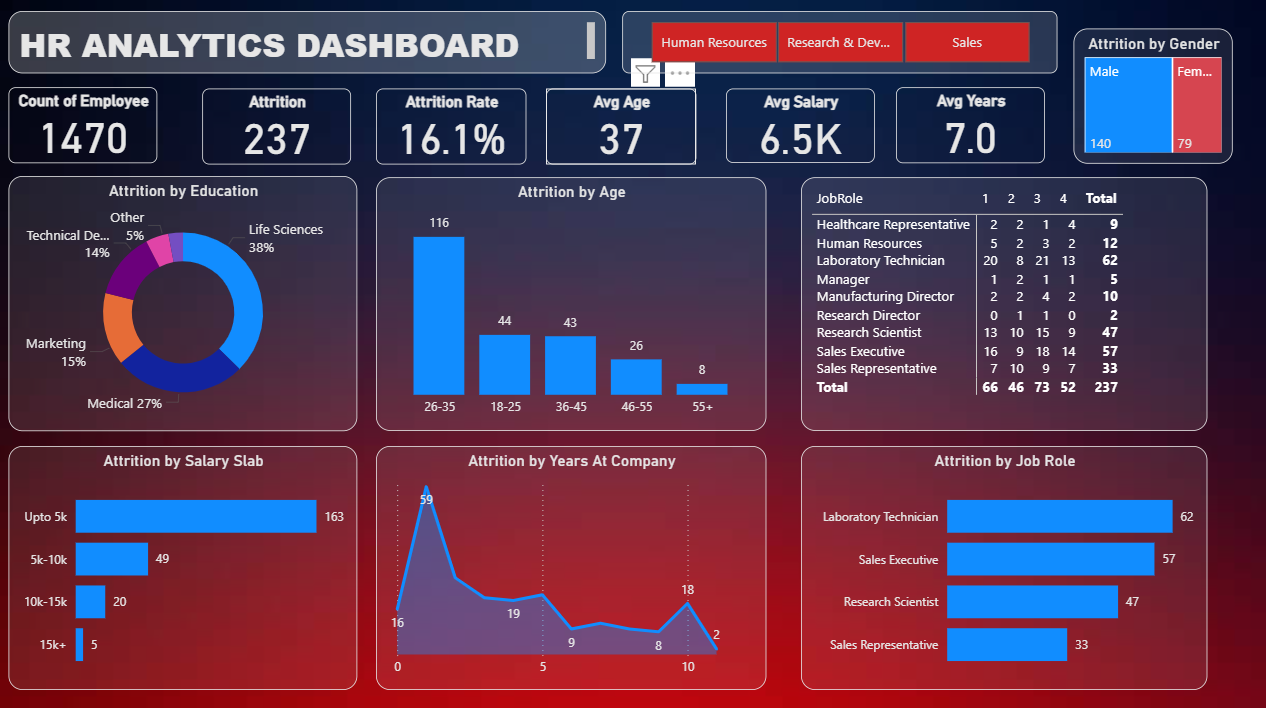

The page's visual inventory and layout, read from the dashboard file:
{"tool":"powerbi","page":{"name":"Page 1","canvas":[1280,720],"ordinal":0},"visuals":[{"type":"card","title":"Count of Employee","fields":{"Values":["CountNonNull(HR_Analytics.EmpID)"]},"box":[11.9,90.9,149,76],"z":0},{"type":"card","title":"Attrition","fields":{"Values":["Sum(HR_Analytics.AttritionCount)"]},"box":[205.6,92.4,149,76],"z":1000},{"type":"card","title":"Attrition Rate","fields":{"Values":["HR_Analytics.AttritionRate"]},"box":[380,92.4,150.5,76],"z":2000},{"type":"card","title":"Avg Age","fields":{"Values":["Avg(HR_Analytics.Age)"]},"box":[549.8,92.4,150.5,76],"z":3000},{"type":"card","title":"Avg Years","fields":{"Values":["Avg(HR_Analytics.YearsAtCompany)"]},"box":[900,90.9,149,76],"z":4000},{"type":"card","title":"Avg Salary","fields":{"Values":["Avg(HR_Analytics.MonthlyIncome)"]},"box":[730.2,92.4,149,74.5],"z":5000},{"type":"donutChart","title":"Attrition by Education","fields":{"Y":["Sum(HR_Analytics.AttritionCount)"],"Category":["HR_Analytics.EducationField"]},"box":[11.9,180.3,348.7,254.8],"z":6000},{"type":"columnChart","title":"Attrition by Age","fields":{"Category":["HR_Analytics.AgeGroup"],"Y":["Sum(HR_Analytics.AttritionCount)"]},"box":[380,181.8,390.4,253.3],"z":7000},{"type":"pivotTable","fields":{"Rows":["HR_Analytics.JobRole"],"Columns":["HR_Analytics.JobSatisfaction"],"Values":["Sum(HR_Analytics.AttritionCount)"]},"box":[804.7,181.8,406.8,253.3],"z":8000},{"type":"barChart","title":"Attrition by Salary Slab","fields":{"Category":["HR_Analytics.SalarySlab"],"Y":["Sum(HR_Analytics.AttritionCount)"]},"box":[11.9,450,348.7,244.4],"z":9000},{"type":"barChart","title":"Attrition by Job Role","fields":{"Category":["HR_Analytics.JobRole"],"Y":["Sum(HR_Analytics.AttritionCount)"]},"box":[804.7,450,406.8,244.4],"z":10000},{"type":"areaChart","title":"Attrition by Years At Company","fields":{"Category":["HR_Analytics.YearsAtCompany"],"Y":["Sum(HR_Analytics.AttritionCount)"]},"box":[380,450,390.4,244.4],"z":11000},{"type":"treemap","title":"Attrition by Gender","fields":{"Group":["HR_Analytics.Gender"],"Values":["Sum(HR_Analytics.AttritionCount)"]},"box":[1077.3,32.8,159.4,135.6],"z":12000},{"type":"slicer","fields":{"Values":["HR_Analytics.Department"]},"box":[625.8,14.9,435.1,62.6],"z":13000},{"type":"textbox","box":[11.9,14.9,597.5,62.6],"z":14000}]}

Visuals, with their boxes in screenshot pixels (x1, y1, x2, y2), scaled from the page's 1280x720 canvas onto the 1266x708 screenshot:
"Count of Employee" card: rect(12, 89, 159, 164)
"Attrition" card: rect(203, 91, 351, 166)
"Attrition Rate" card: rect(376, 91, 525, 166)
"Avg Age" card: rect(544, 91, 693, 166)
"Avg Years" card: rect(890, 89, 1038, 164)
"Avg Salary" card: rect(722, 91, 870, 164)
"Attrition by Education" donutChart: rect(12, 177, 357, 428)
"Attrition by Age" columnChart: rect(376, 179, 762, 428)
pivotTable - HR_Analytics.JobRole x HR_Analytics.JobSatisfaction: rect(796, 179, 1198, 428)
"Attrition by Salary Slab" barChart: rect(12, 442, 357, 683)
"Attrition by Job Role" barChart: rect(796, 442, 1198, 683)
"Attrition by Years At Company" areaChart: rect(376, 442, 762, 683)
"Attrition by Gender" treemap: rect(1066, 32, 1223, 166)
slicer - HR_Analytics.Department: rect(619, 15, 1049, 76)
textbox: rect(12, 15, 603, 76)
